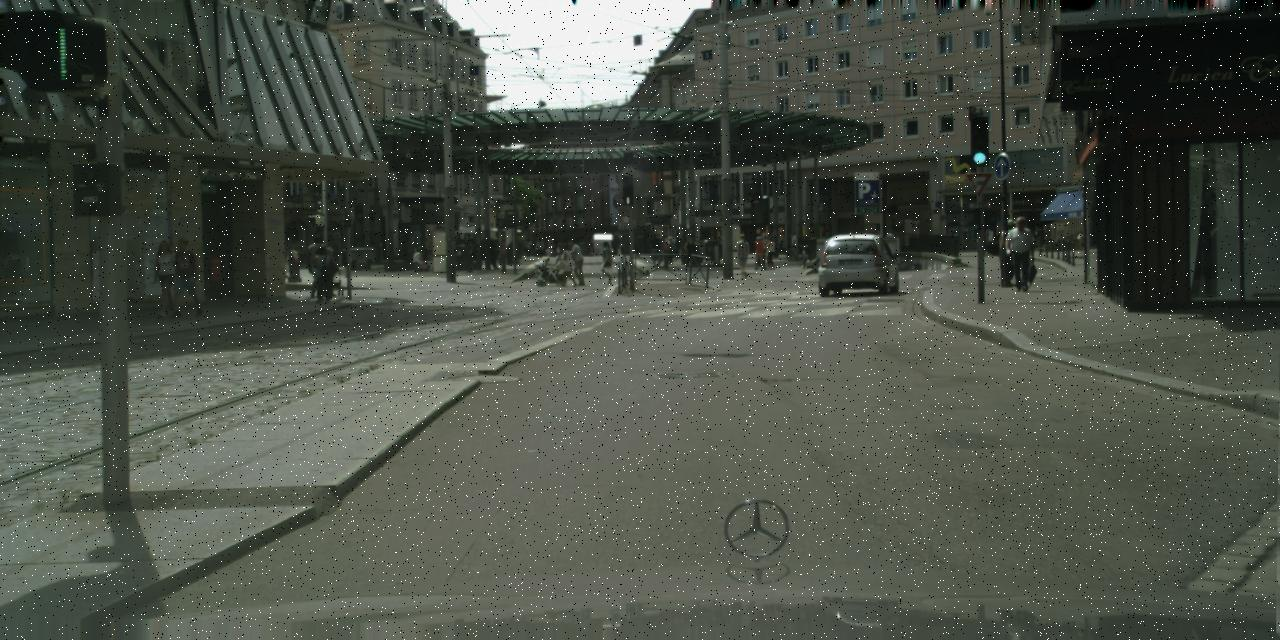ped: (170, 238, 202, 316), (152, 240, 182, 316), (1006, 216, 1036, 291), (995, 218, 1023, 287), (306, 236, 332, 296), (313, 244, 338, 304), (568, 238, 586, 285), (734, 233, 752, 278), (598, 240, 616, 284), (558, 243, 575, 286), (649, 233, 662, 266), (339, 244, 352, 277), (764, 236, 777, 269), (754, 236, 766, 270), (684, 235, 696, 266), (983, 224, 995, 252), (490, 239, 501, 269), (788, 231, 799, 259), (665, 238, 674, 263), (984, 226, 993, 250), (535, 235, 544, 258), (671, 233, 680, 253), (524, 238, 532, 258), (542, 248, 554, 258), (587, 238, 594, 255), (555, 246, 559, 258)
